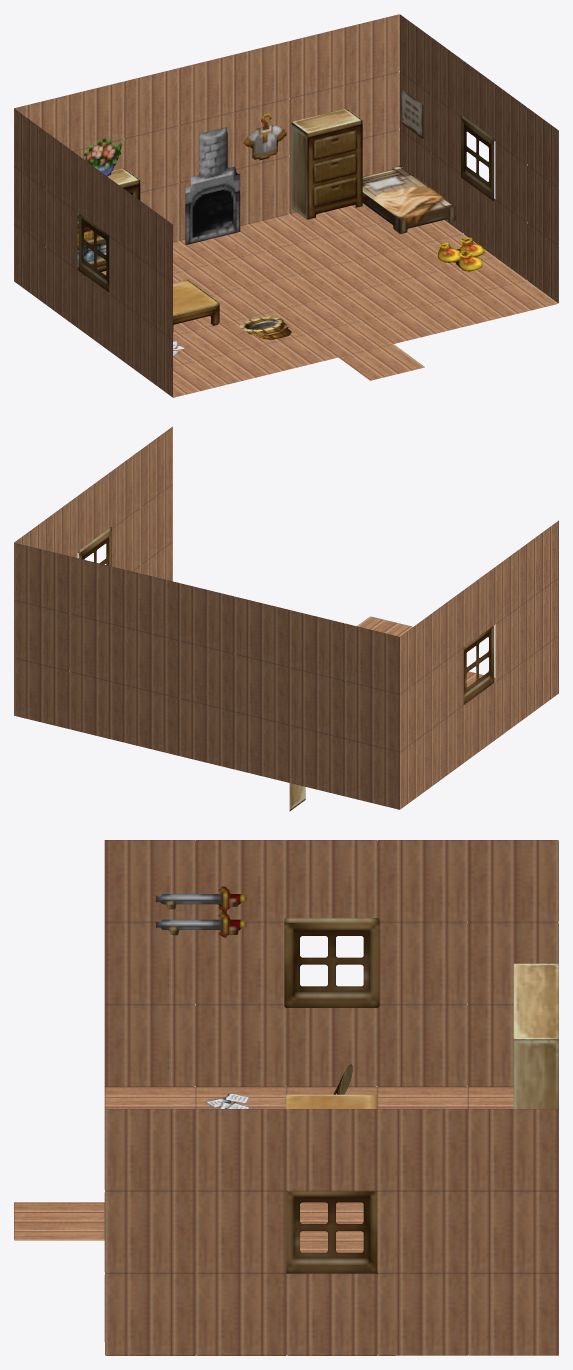
The model's file is Home0.2.obj.
3 renders of one model, top to bottom at view 1: azimuth 30°, elevation 25°; view 2: azimuth 150°, elevation 25°; view 3: azimuth 270°, elevation 25°, orthographic. The views are drawn at different scales.
Parts seen in each view (by area): view 1: Default; view 2: Default; view 3: Default.
Boxes of the visible parts, x1,y1,x2,y2 form: Default: (14,14,558,397); Default: (14,426,558,811); Default: (14,840,558,1355).
Bounding box in the file's own units: 14 × 7 × 12.
